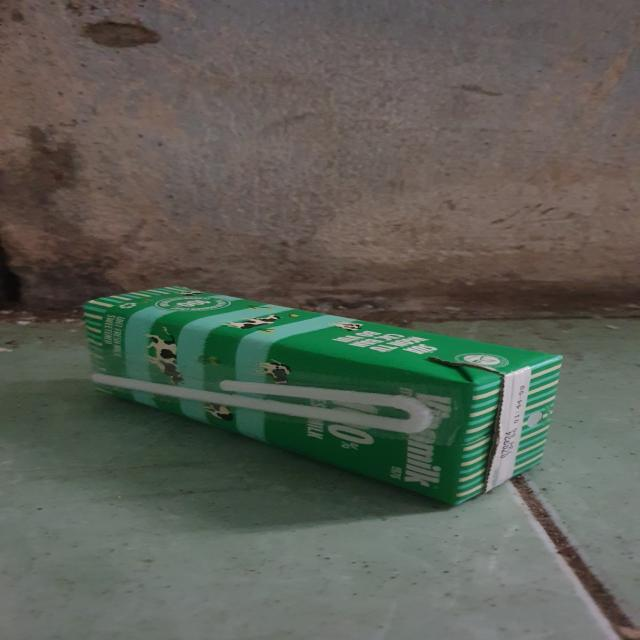Vina: (83, 284, 569, 513)
